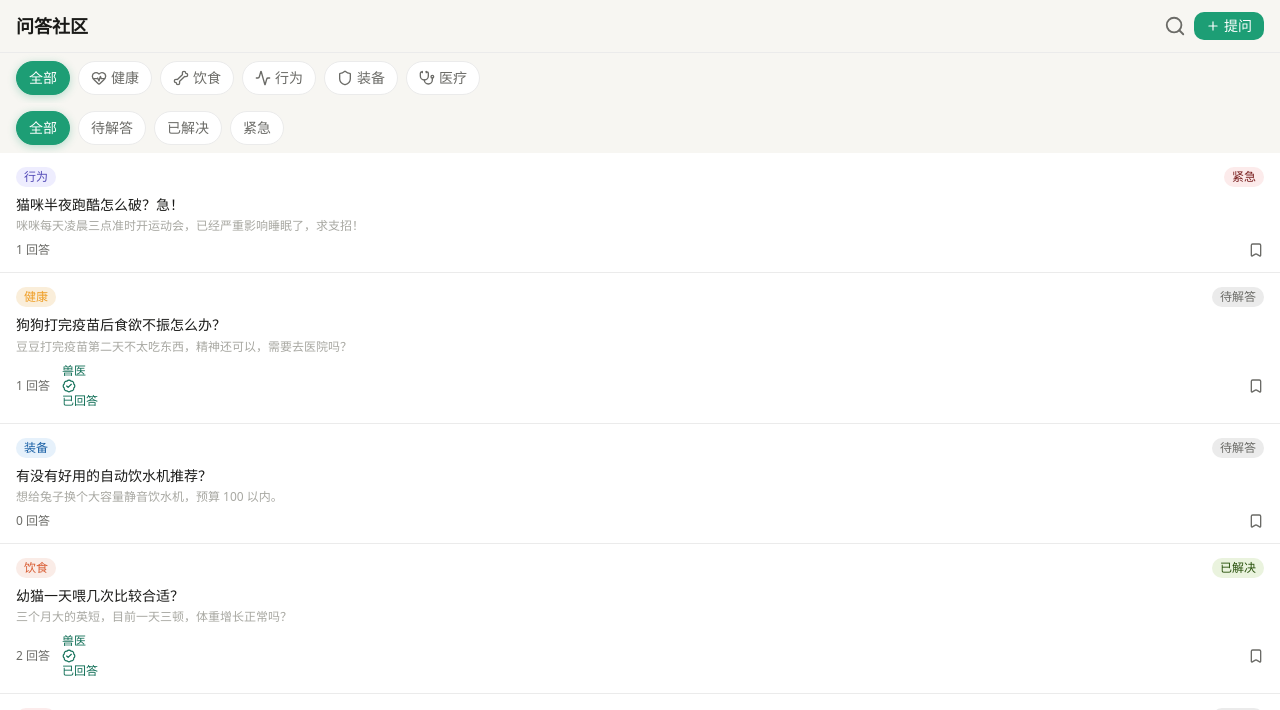
Test case: 问答状态筛选与兽医激励（P0-5） › 待解答筛选仅显示 open（含 0 回答 q4），不显示 resolved/urgent
This screenshot has width=1280, height=710.
What coordinates should you click on to do the following:
click the button "待解答"
I would click on:
 (112, 128)
Its box is 78,111 -> 146,145.
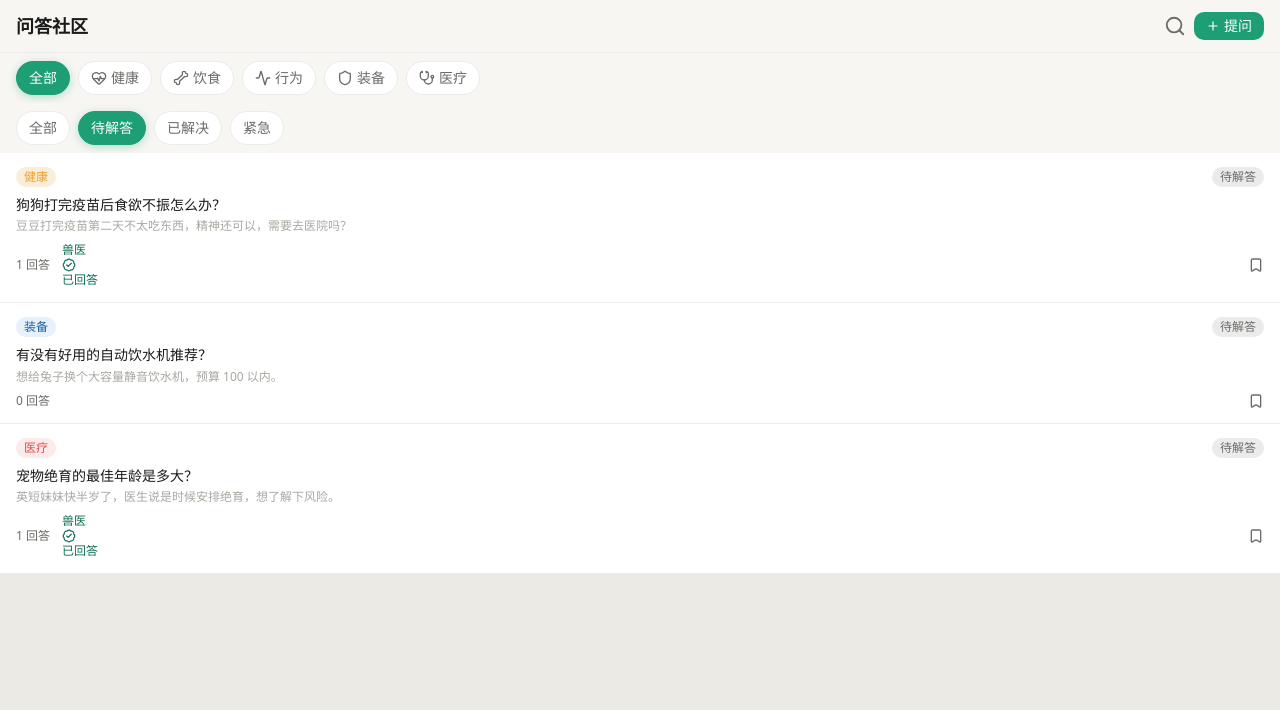
expect the link "狗狗打完疫苗后食欲不振怎么办？" is shown: met, box 16,195 -> 226,214
expect the link "幼猫一天喂几次比较合适？" is gone: met
expect the link "猫咪半夜跑酷怎么破？急！" is gone: met
